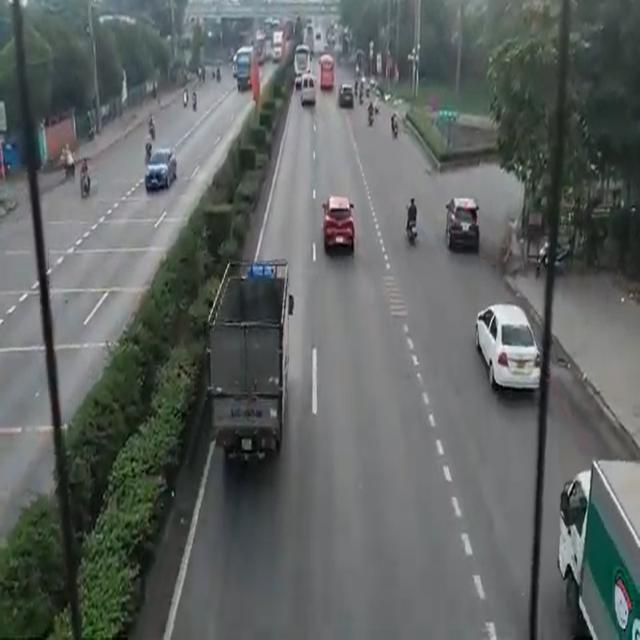car: (476, 299, 536, 398), (318, 192, 356, 257), (446, 196, 480, 260), (144, 141, 174, 192)
motorbike: (403, 194, 423, 247)
truck: (210, 264, 285, 466), (559, 459, 640, 640), (320, 54, 332, 98)
